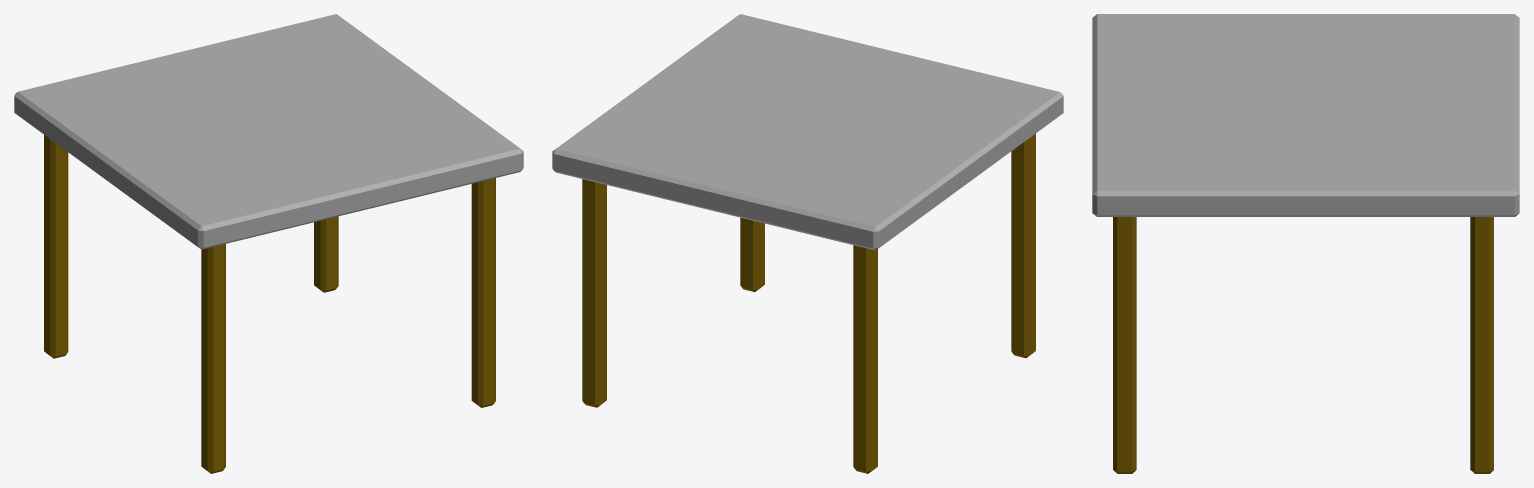
Rendered from square_table.glb.
3 views of the same model, side by side, from view 1: azimuth 30°, elevation 25°; view 2: azimuth 150°, elevation 25°; view 3: azimuth 270°, elevation 25° (orthographic). The views are drawn at different scales.
Parts seen in each view (by area): view 1: SQUARE TABLE.001_Material.049_0; view 2: SQUARE TABLE.001_Material.049_0; view 3: SQUARE TABLE.001_Material.049_0.
Boxes of the visible parts, x1,y1,x2,y2 form: SQUARE TABLE.001_Material.049_0: (14,14,523,473); SQUARE TABLE.001_Material.049_0: (552,14,1063,473); SQUARE TABLE.001_Material.049_0: (1092,14,1519,473).
Size of the model in its own units: 0.2716 by 0.2061 by 0.2716.
1 material, 1 textured.
